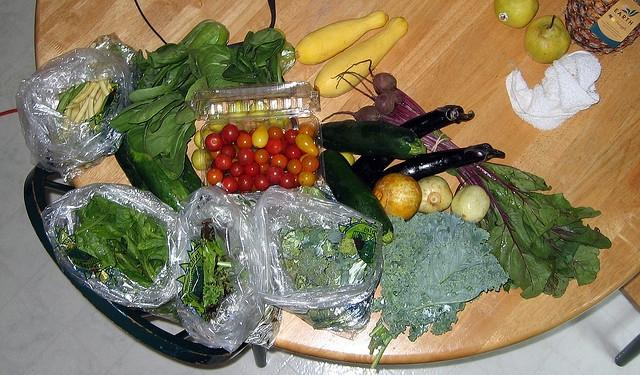eggplant: (351, 105, 474, 186), (378, 143, 506, 182)
green bean: (74, 82, 100, 124), (70, 82, 96, 104), (57, 89, 76, 113), (94, 93, 102, 114), (70, 106, 80, 121)
pineapple: (561, 0, 640, 55)
tomato: (295, 133, 319, 157), (252, 124, 268, 148), (222, 123, 240, 144), (266, 166, 284, 184), (302, 154, 320, 172), (205, 133, 222, 152), (238, 148, 255, 166), (221, 176, 238, 194), (215, 153, 232, 170), (253, 173, 270, 190), (298, 170, 316, 186), (206, 168, 224, 184), (264, 138, 282, 154), (280, 172, 296, 189), (238, 174, 254, 191), (229, 161, 245, 178), (220, 144, 237, 160), (254, 148, 270, 164), (272, 154, 288, 169), (287, 158, 302, 174), (245, 162, 260, 178), (285, 145, 301, 160), (236, 134, 253, 148), (298, 124, 314, 138), (284, 129, 298, 144), (268, 126, 282, 140), (258, 162, 270, 176), (232, 144, 241, 158), (292, 173, 300, 187), (270, 182, 280, 186)
